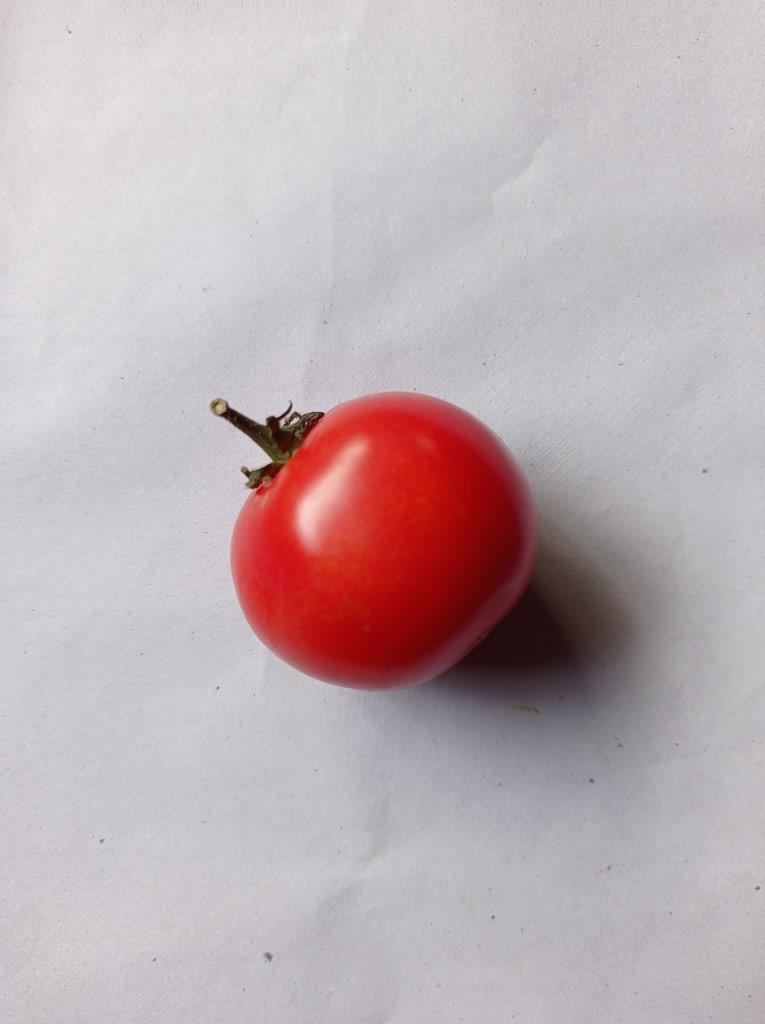tomato: (213, 393, 535, 690)
